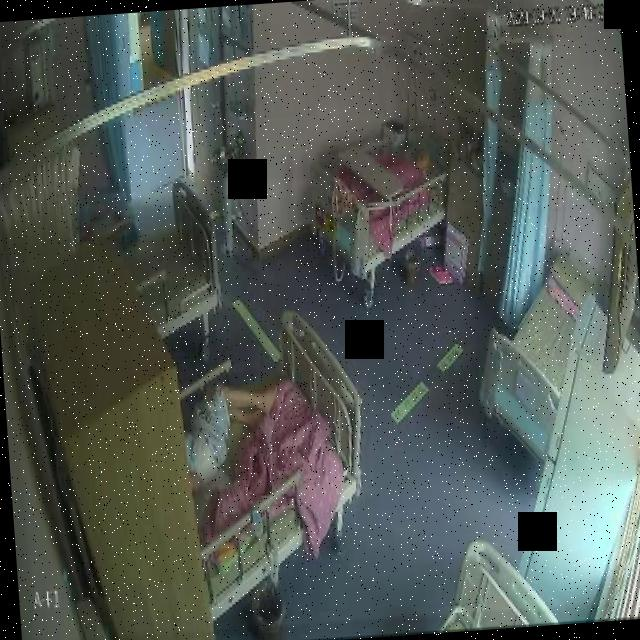bed: (174, 307, 373, 584), (290, 106, 456, 304), (469, 259, 601, 470), (115, 175, 225, 342)
lie: (176, 378, 282, 488)
patient: (178, 376, 283, 489)
